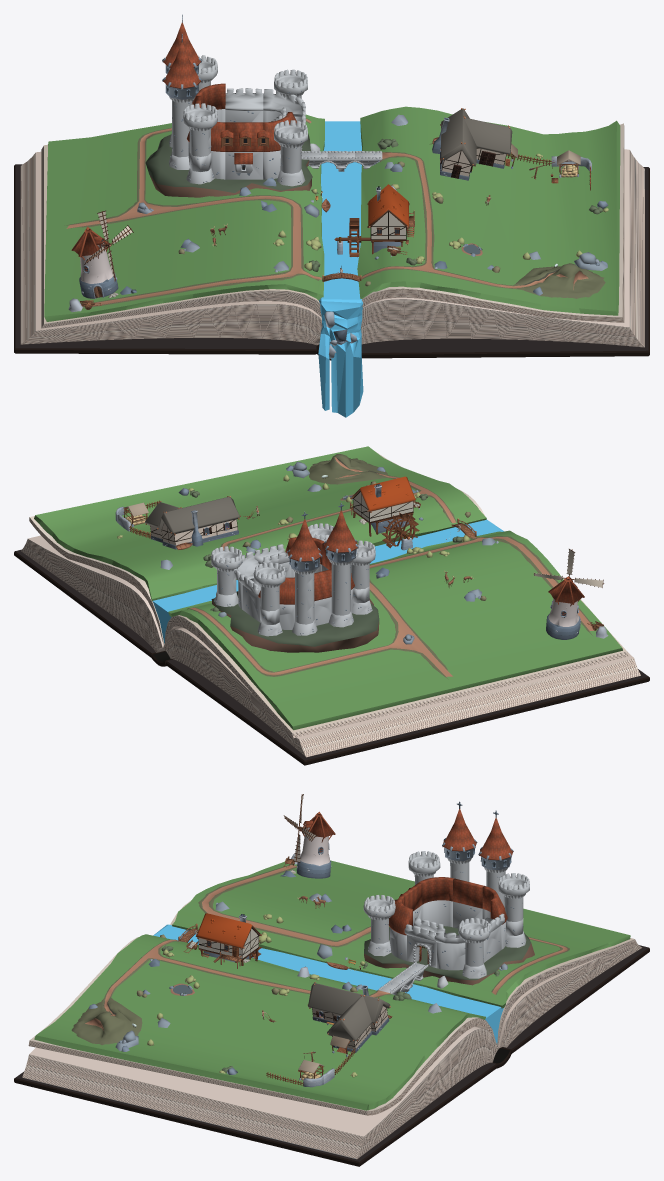
3 renders of one model, top to bottom at view 1: azimuth 30°, elevation 25°; view 2: azimuth 150°, elevation 25°; view 3: azimuth 270°, elevation 25°, orthographic. The views are drawn at different scales.
Parts seen in each view (by area): view 1: Texture_base_1, Texture_base_3, Texture_base_6, Texture_base_8, Waterfall, Texture_base_7, Texture_base_9, base_1280, base_1468, Texture_base_4, Texture_base_5, base_450 (+19 smaller); view 2: Texture_base_3, Texture_base_1, Texture_base_8, Texture_base_9, Texture_base_6, Texture_base_4, base_1280, base_450, Waterfall, base_1468, Texture_base_7, base_1394 (+19 smaller); view 3: Texture_base_1, Texture_base_6, Texture_base_3, Texture_base_7, Texture_base_5, Waterfall, base_1468, Texture_base_8, base_1280, base_450, Texture_base_9, base_39 (+18 smaller).
Part boxes in pixels (bbox=[...]): Texture_base_1: bbox=[357, 106, 620, 315]; Texture_base_3: bbox=[44, 114, 324, 321]; Texture_base_6: bbox=[361, 149, 644, 347]; Texture_base_8: bbox=[20, 151, 322, 345]; Waterfall: bbox=[318, 121, 363, 417]; Texture_base_7: bbox=[361, 167, 649, 358]; Texture_base_9: bbox=[14, 164, 317, 354]; base_1280: bbox=[64, 118, 321, 308]; base_1468: bbox=[361, 152, 605, 298]; Texture_base_4: bbox=[41, 144, 321, 328]; Texture_base_5: bbox=[362, 123, 624, 322]; base_450: bbox=[145, 133, 312, 197]; Texture_base_3: bbox=[168, 530, 622, 730]; Texture_base_1: bbox=[34, 446, 486, 600]; Texture_base_8: bbox=[163, 627, 640, 757]; Texture_base_9: bbox=[166, 659, 649, 765]; Texture_base_6: bbox=[21, 535, 164, 652]; Texture_base_4: bbox=[164, 579, 628, 738]; base_1280: bbox=[187, 536, 596, 679]; base_450: bbox=[211, 591, 379, 652]; Waterfall: bbox=[152, 519, 504, 643]; base_1468: bbox=[220, 454, 456, 550]; Texture_base_7: bbox=[14, 549, 165, 657]; base_1394: bbox=[157, 496, 239, 534]; Texture_base_1: bbox=[34, 934, 485, 1110]; Texture_base_6: bbox=[22, 1026, 498, 1159]; Texture_base_3: bbox=[172, 860, 630, 1008]; Texture_base_7: bbox=[14, 1062, 496, 1166]; Texture_base_5: bbox=[28, 937, 495, 1115]; Waterfall: bbox=[153, 924, 503, 1043]; base_1468: bbox=[71, 939, 391, 1045]; Texture_base_8: bbox=[498, 942, 642, 1048]; base_1280: bbox=[198, 864, 569, 994]; base_450: bbox=[364, 926, 534, 985]; Texture_base_9: bbox=[500, 945, 649, 1053]; base_39: bbox=[389, 927, 483, 970].
Bounding box in the file's own units: 124 × 46.41 × 113.
Materials: 6 (3 with a texture image).
